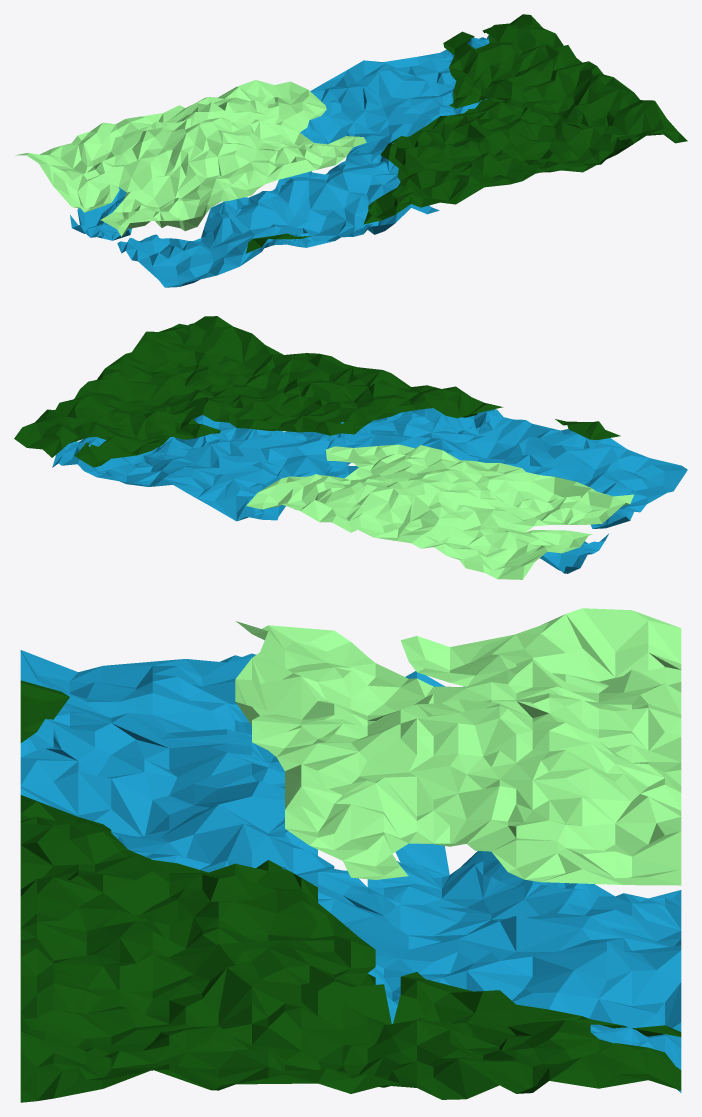
The model's file is map.FBX.
3 renders of one model, top to bottom at view 1: azimuth 30°, elevation 25°; view 2: azimuth 150°, elevation 25°; view 3: azimuth 270°, elevation 25°, orthographic. The views are drawn at different scales.
Parts seen in each view (by area): view 1: Plane003, Plane004; view 2: Plane003, Plane004; view 3: Plane003, Plane004.
Boxes of the visible parts, x1,y1,x2,y2 form: Plane003: [15, 14, 687, 253]; Plane004: [70, 35, 489, 287]; Plane003: [14, 316, 633, 579]; Plane004: [52, 408, 687, 573]; Plane003: [20, 608, 681, 1102]; Plane004: [20, 650, 681, 1092].
Bounding box in the file's own units: 192 × 24.91 × 108.
